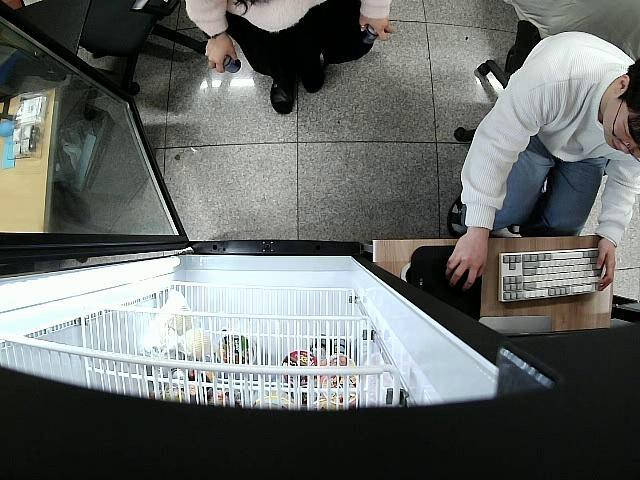16_hot6: (221, 54, 242, 76), (361, 24, 379, 43)
